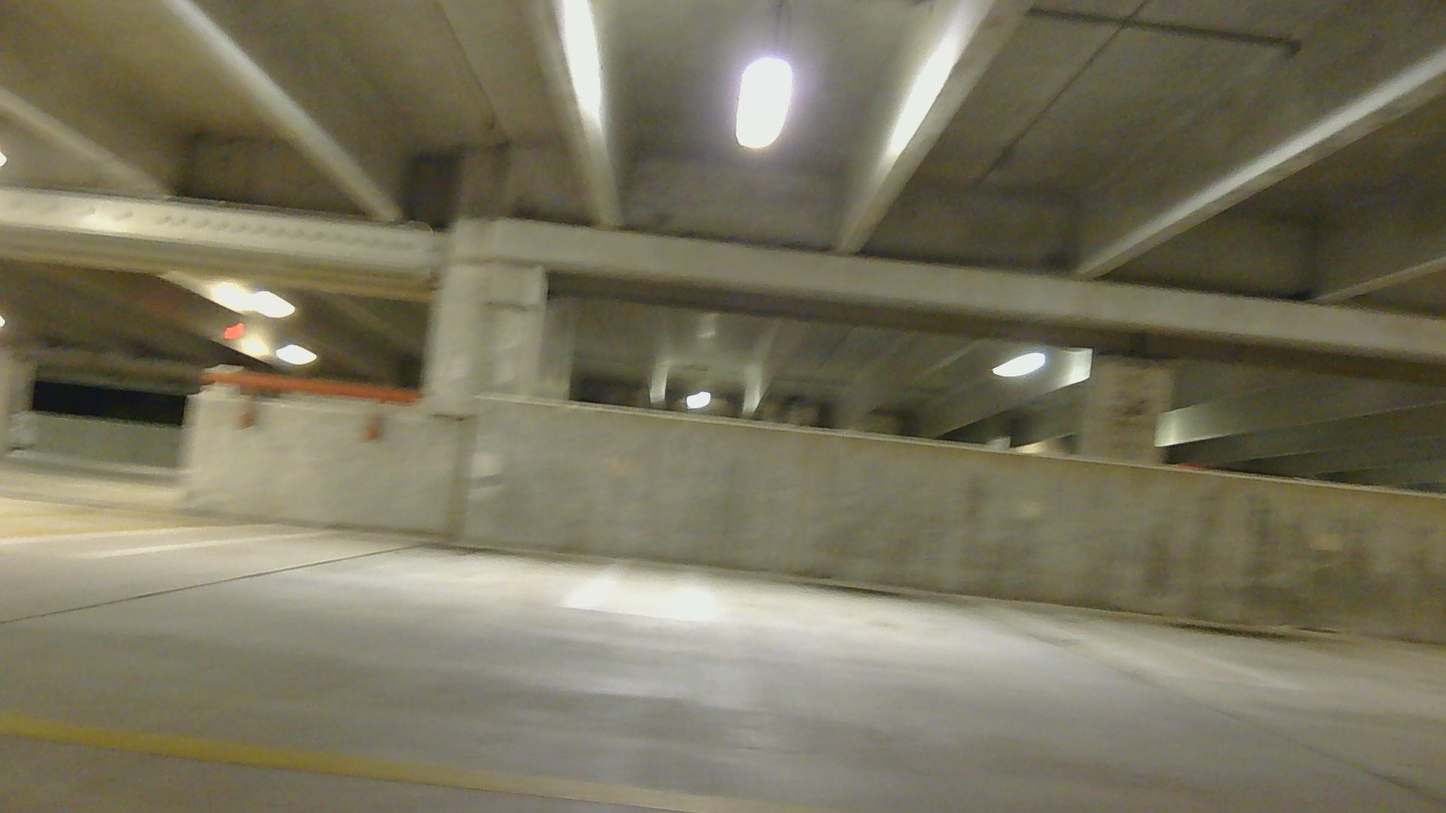empty_spot: (668, 483, 1246, 688), (39, 432, 672, 600), (1044, 531, 1446, 695)
